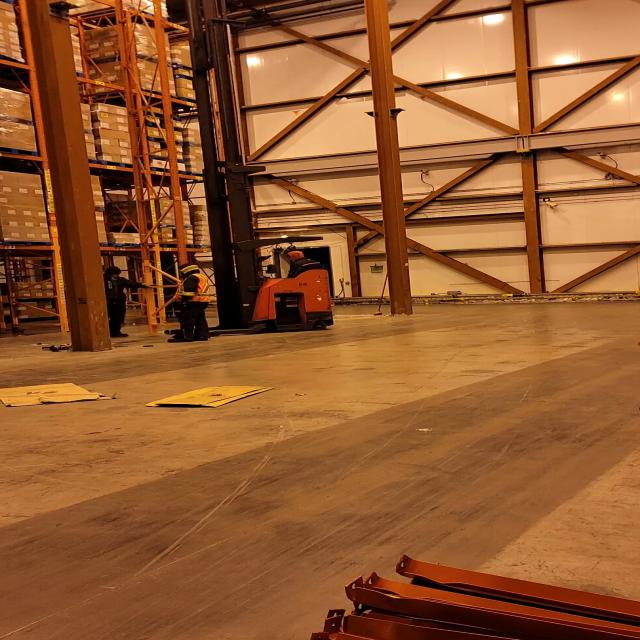forklift: (162, 162, 338, 344)
human: (86, 258, 156, 342), (160, 259, 218, 345), (270, 248, 338, 278)
objectofinterest: (136, 0, 194, 345), (139, 382, 278, 411), (0, 379, 123, 411)
